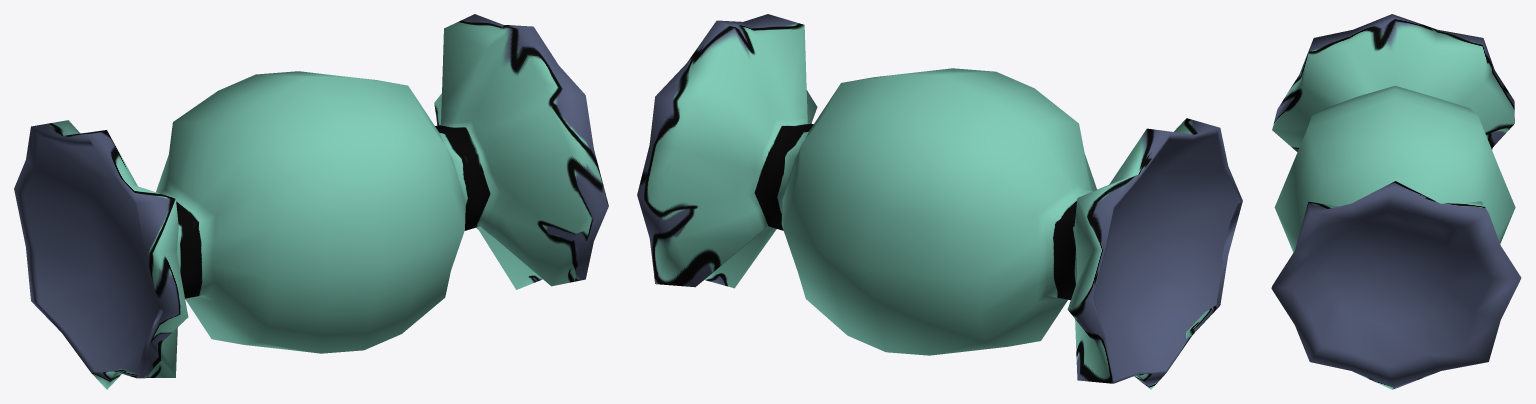
The model's file is Pumpkin_Candy.fbx.
3 views of the same model, side by side, from view 1: azimuth 30°, elevation 25°; view 2: azimuth 150°, elevation 25°; view 3: azimuth 270°, elevation 25° (orthographic). The views are drawn at different scales.
Parts seen in each view (by area): view 1: Cube; view 2: Cube; view 3: Cube.
Boxes of the visible parts, left/top/right/bottom form: Cube: left=14, top=14, right=608, bottom=389; Cube: left=637, top=14, right=1242, bottom=389; Cube: left=1271, top=14, right=1521, bottom=389.
Size of the model in its own units: 277 by 160 by 166.
